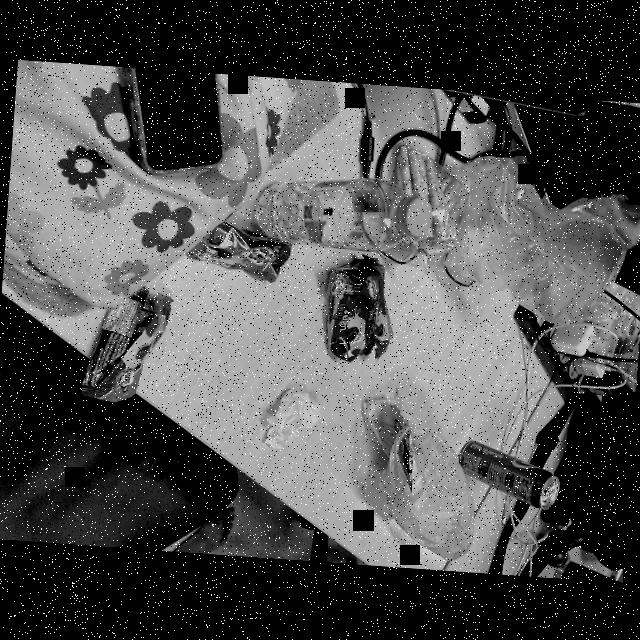can: (452, 434, 568, 511)
plastic_bag: (432, 149, 640, 328), (344, 388, 489, 564)
plastic_bottle: (245, 170, 436, 256), (572, 295, 640, 342)
plastic_bottle_cap: (394, 195, 432, 237)
scrap_paper: (256, 379, 327, 451)
snack_bag: (76, 269, 178, 412), (378, 143, 468, 275), (315, 250, 399, 368), (184, 215, 302, 288)
